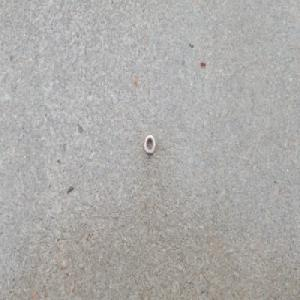Nut: (143, 134, 156, 156)
